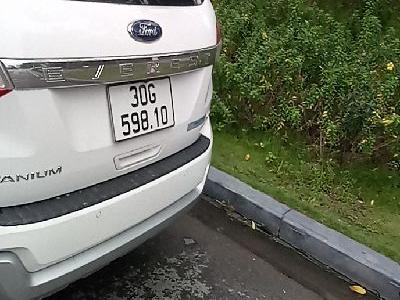car: (105, 75, 177, 142)
